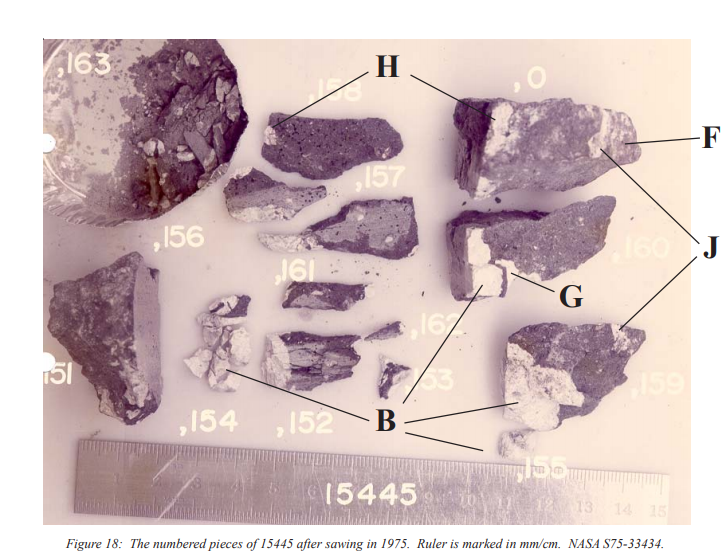Breccia: (219, 258, 421, 453), (35, 244, 203, 452), (40, 46, 261, 193), (432, 81, 660, 188), (481, 324, 650, 461), (440, 217, 638, 303), (276, 94, 423, 178)
